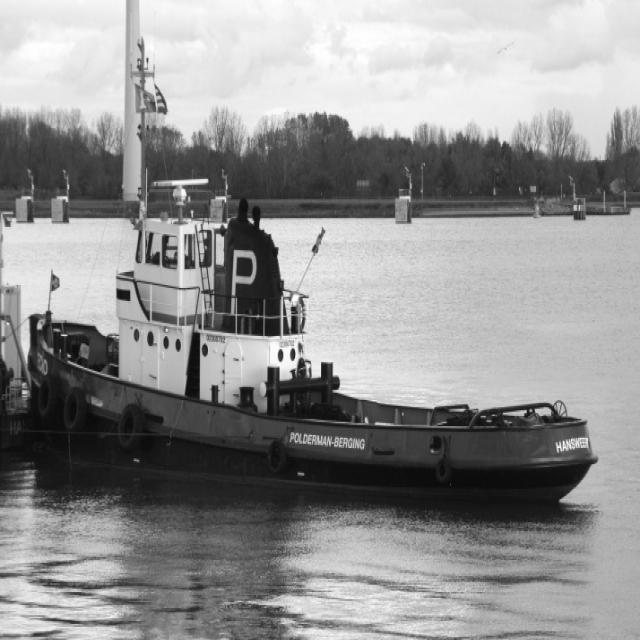tugboat: (24, 174, 605, 525)
